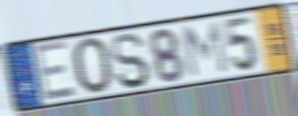5: (221, 13, 262, 74)
8: (148, 26, 188, 85)
E: (31, 39, 79, 105)
M: (180, 19, 230, 79)
O: (70, 36, 115, 97)
S: (109, 31, 151, 91)
